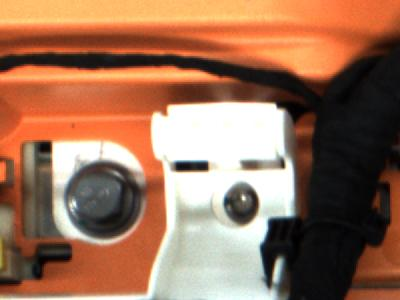nut_b: (58, 157, 148, 243)
